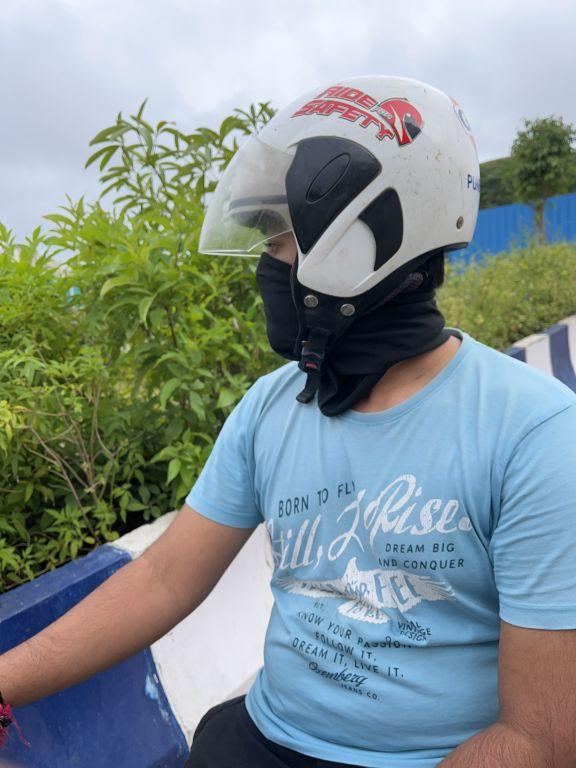helmet: (192, 60, 492, 338)
